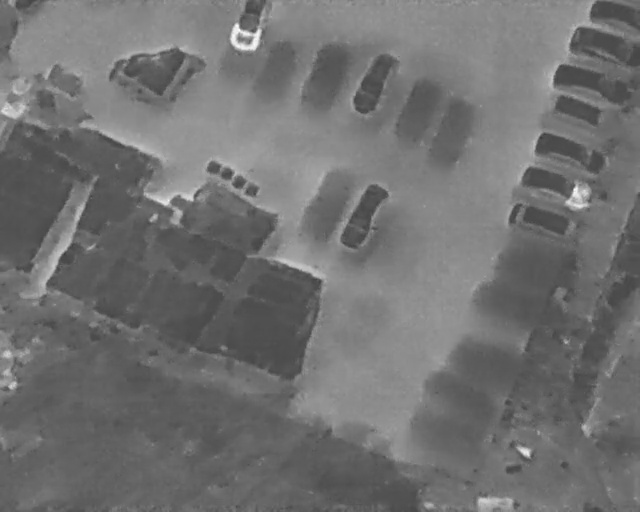Car: (335, 177, 392, 256), (531, 126, 613, 180), (516, 161, 595, 213), (550, 59, 631, 109), (346, 45, 400, 118), (506, 198, 581, 245), (567, 25, 640, 65), (228, 0, 270, 55), (586, 1, 640, 23)
